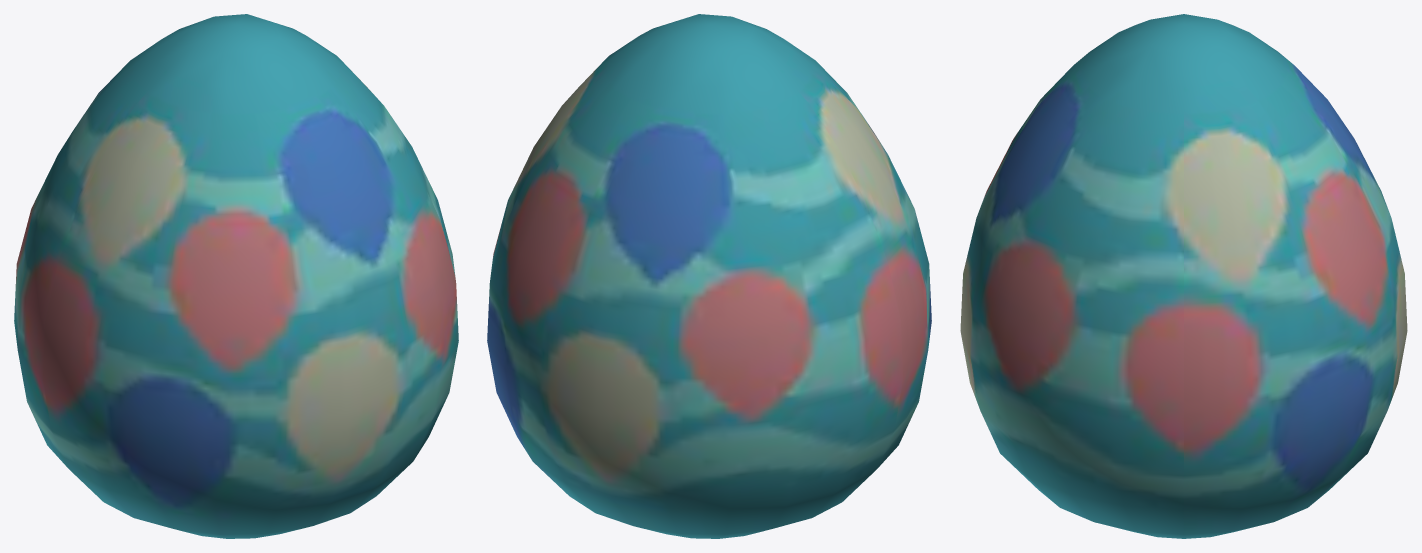
The model's file is sky-egg.glb.
3 views of the same model, side by side, from view 1: azimuth 30°, elevation 25°; view 2: azimuth 150°, elevation 25°; view 3: azimuth 270°, elevation 25° (orthographic).
Bounding box in the file's own units: 2.98 × 3.61 × 2.98.
Materials: 1 (1 with a texture image).
